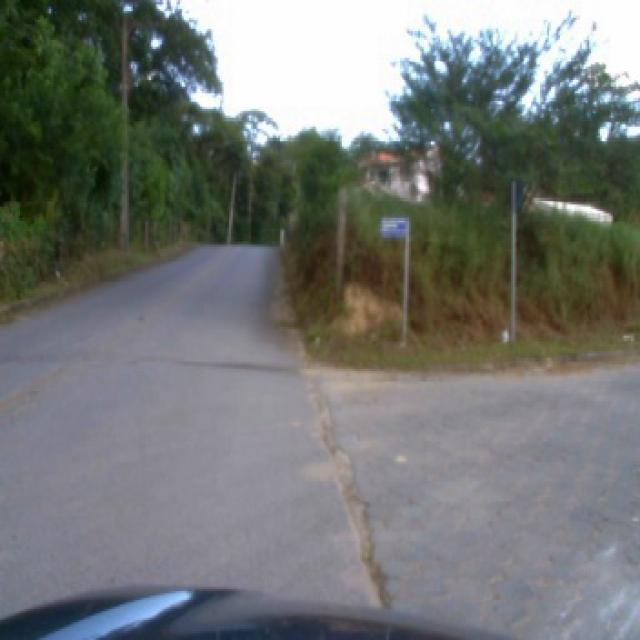Poth-hole: (312, 398, 392, 606), (172, 358, 288, 369)
